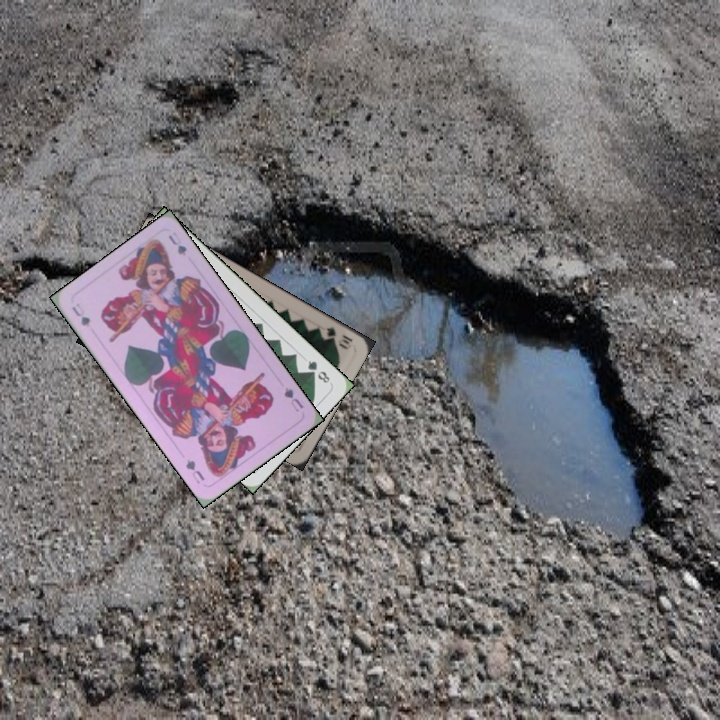G10: (322, 323, 355, 352)
G8: (303, 356, 333, 386)
GU: (280, 383, 306, 414), (67, 299, 93, 330)
